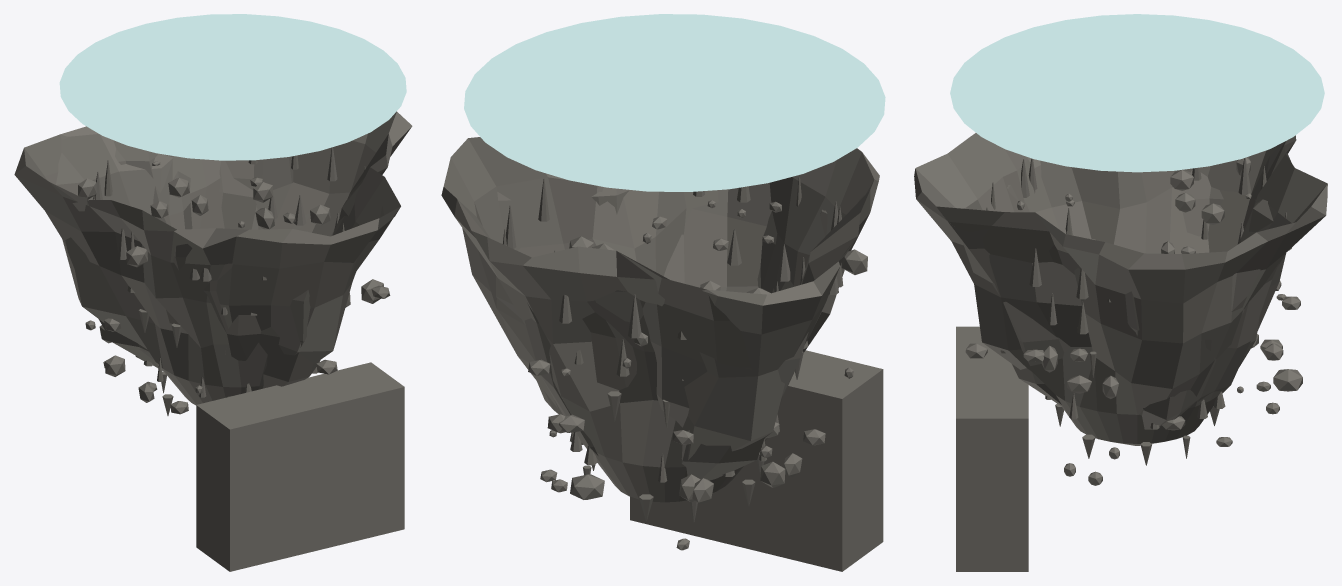
The model's file is cenote-prueba-5.fbx.
3 renders of one model, left to right at view 1: azimuth 30°, elevation 25°; view 2: azimuth 150°, elevation 25°; view 3: azimuth 270°, elevation 25°, orthographic. The views are drawn at different scales.
Visible parts, largest first — view 1: Cenote_LOD0, Cenote_Agua_Cristalina; view 2: Cenote_LOD0, Cenote_Agua_Cristalina; view 3: Cenote_LOD0, Cenote_Agua_Cristalina.
Part boxes in pixels (x1,y1,x2,y2): Cenote_LOD0: [14, 111, 412, 571]; Cenote_Agua_Cristalina: [59, 14, 406, 160]; Cenote_LOD0: [441, 137, 883, 571]; Cenote_Agua_Cristalina: [464, 14, 885, 191]; Cenote_LOD0: [914, 133, 1327, 571]; Cenote_Agua_Cristalina: [950, 14, 1324, 172].
Size of what is drawn, in the model's own units: 3552 by 3950 by 3423.
